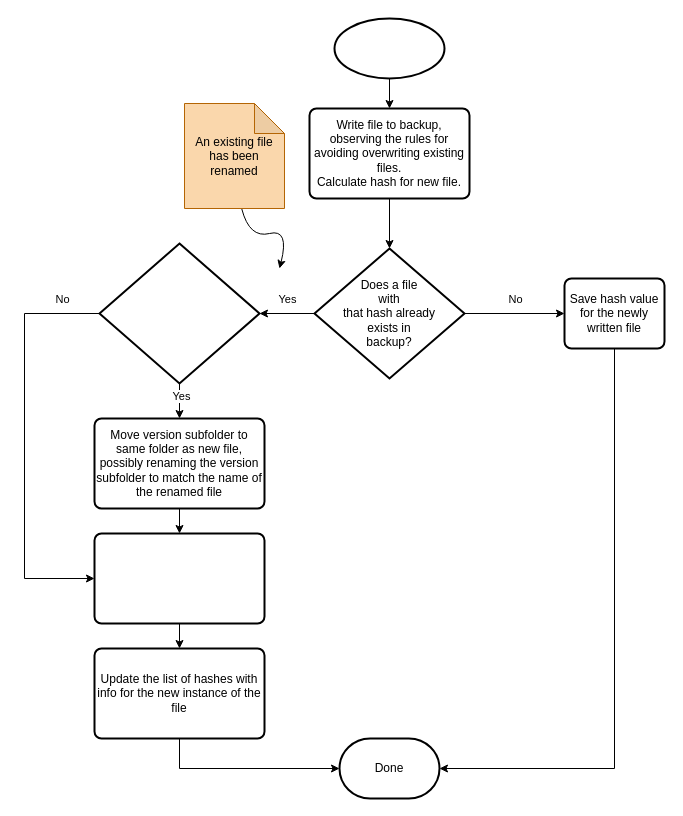
This 683x816 diagram has some shape labels left out. Here are the shapes that lost their labels. From the top down, the centre of each, then its label:
At (x=389, y=48): "Target file found".
At (x=179, y=313): "Does that file have a version subfolder in the place where it currently is?".
At (x=179, y=578): "Delete the previous copy of the file from its previous location (folder)".
